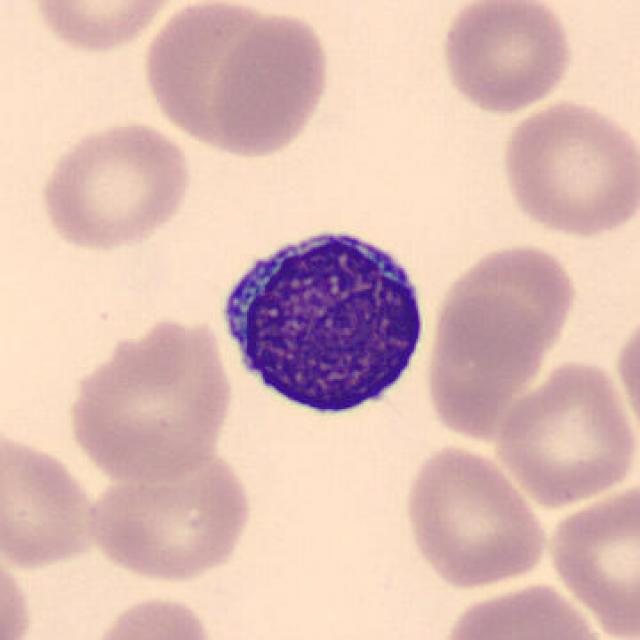Lymphocyte: (210, 213, 436, 425)
RBC: (62, 312, 236, 485), (84, 441, 256, 587), (138, 0, 292, 157), (398, 440, 551, 590), (492, 356, 636, 510), (35, 116, 194, 254), (417, 287, 556, 443), (496, 97, 638, 240), (206, 6, 332, 160), (430, 240, 580, 365), (435, 0, 576, 116), (0, 425, 101, 573), (544, 480, 638, 638), (436, 578, 608, 640), (25, 0, 187, 55), (85, 590, 218, 640), (611, 303, 640, 442), (0, 541, 37, 639)
